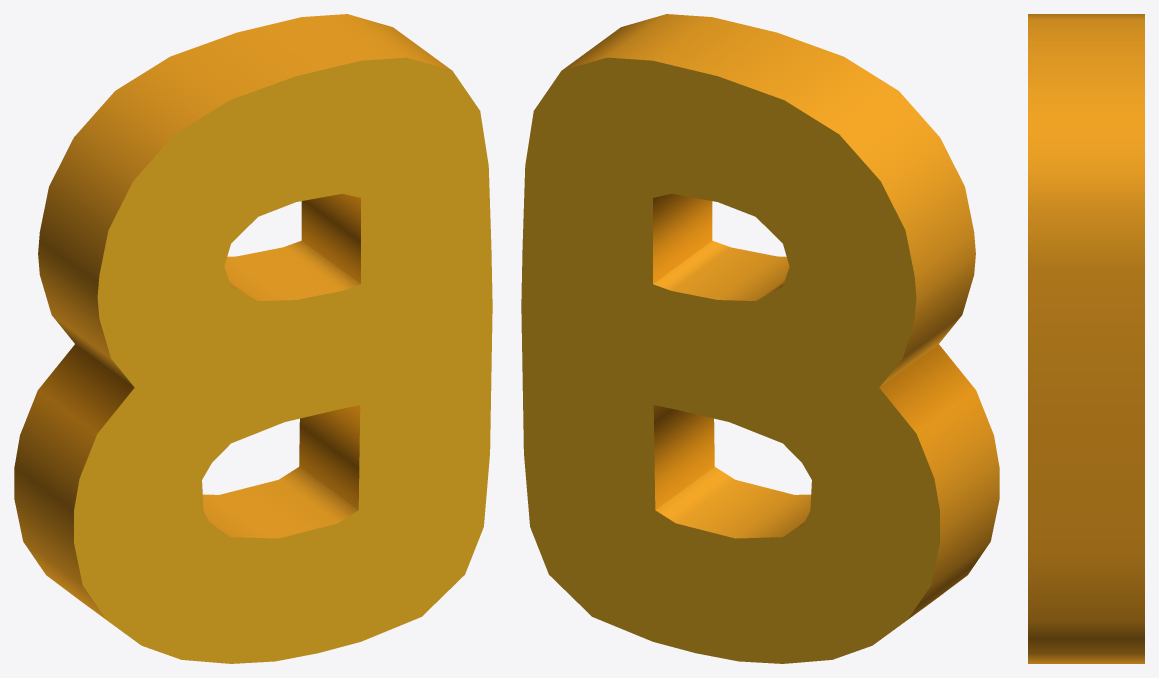
The model's file is TXL0110002.fbx.
3 views of the same model, side by side, from view 1: azimuth 30°, elevation 25°; view 2: azimuth 150°, elevation 25°; view 3: azimuth 270°, elevation 25° (orthographic). The views are drawn at different scales.
Visible parts, largest first — view 1: smTXL0110002; view 2: smTXL0110002; view 3: smTXL0110002.
Part boxes in pixels (<box>): smTXL0110002: <box>14,14,492,663</box>; smTXL0110002: <box>521,14,999,663</box>; smTXL0110002: <box>1028,14,1144,663</box>.
Size of the model in its own units: 89.61 by 119 by 22.06.
Materials: 1 (1 with a texture image).
